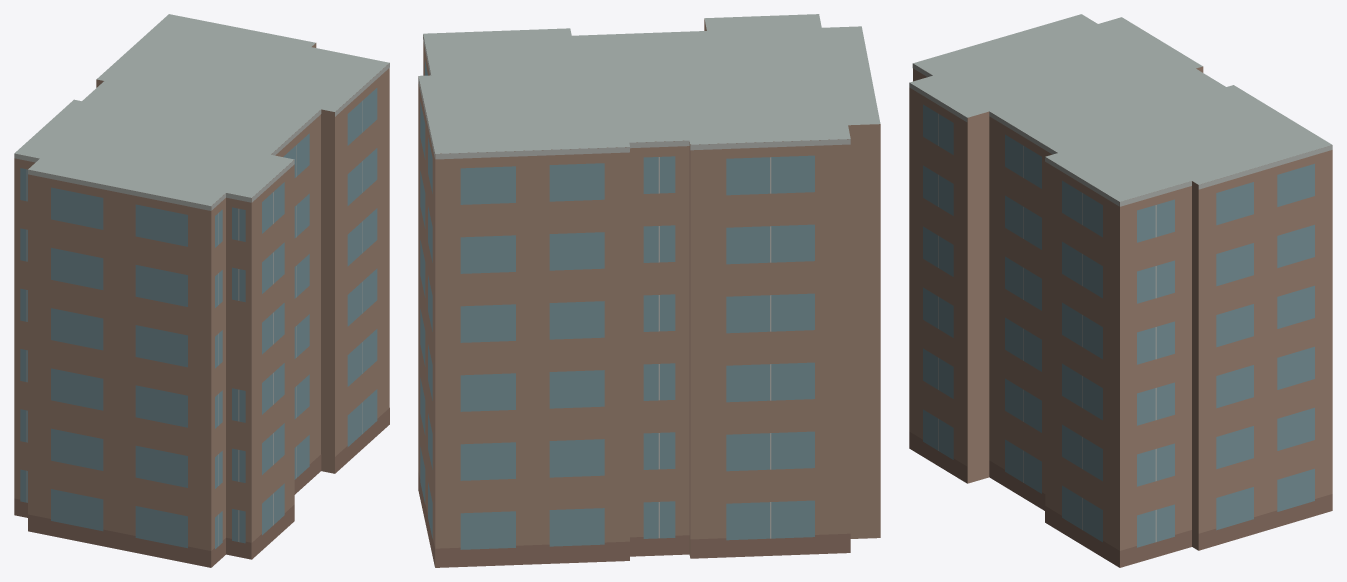
Rendered from survey-upis-32667203.glb.
3 renders of one model, left to right at view 1: azimuth 30°, elevation 25°; view 2: azimuth 150°, elevation 25°; view 3: azimuth 270°, elevation 25°, orthographic. The views are drawn at different scales.
Parts seen in each view (by area): view 1: survey-upis-32667203.tmp; view 2: survey-upis-32667203.tmp; view 3: survey-upis-32667203.tmp.
Part boxes in pixels (left/top/right/bottom): survey-upis-32667203.tmp: left=14, top=14, right=389, bottom=567; survey-upis-32667203.tmp: left=418, top=14, right=880, bottom=567; survey-upis-32667203.tmp: left=909, top=14, right=1332, bottom=567.
Bounding box in the file's own units: 20.17 × 18.3 × 19.19.
